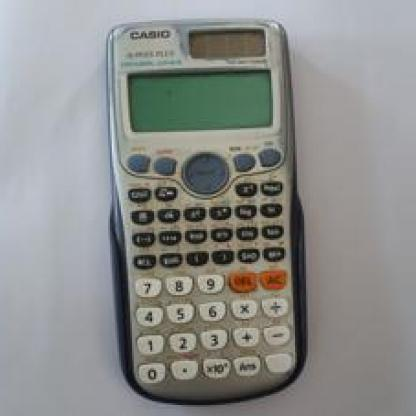calculator: (102, 14, 314, 406)
